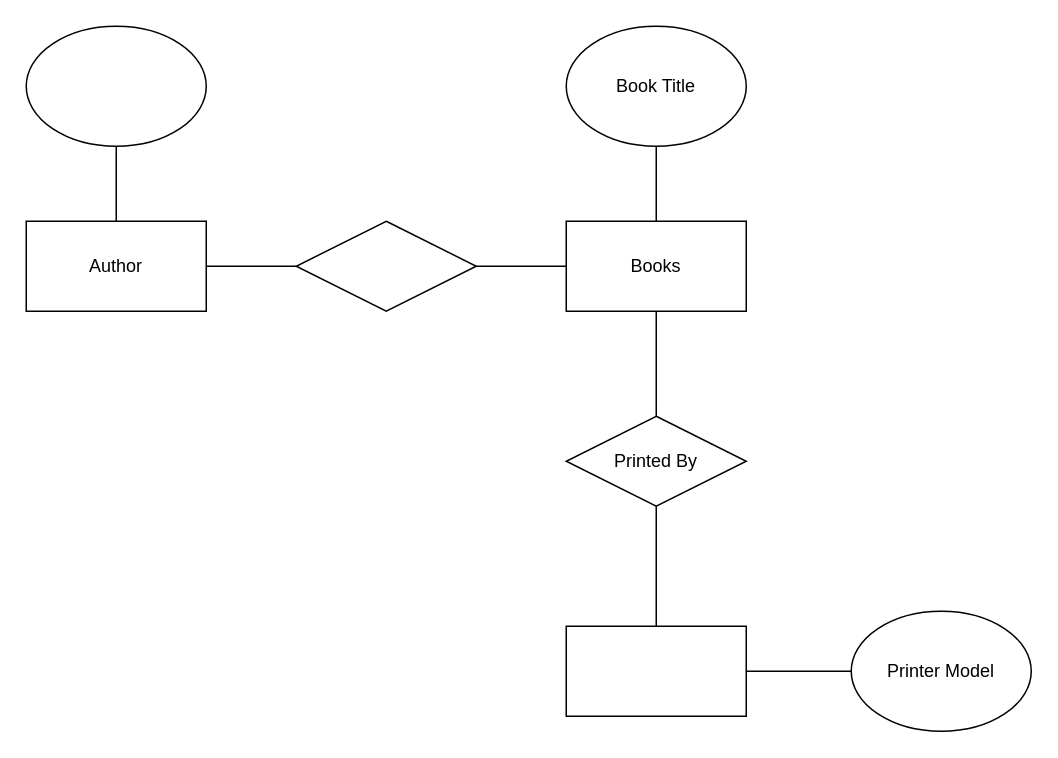
The diagram is 1058 pixels wide and 758 high, and some of its shapes have lost their labels. Each missing label, with the box of its shape:
Author Name: (25, 25, 206, 146)
Printer: (565, 625, 746, 716)
Writes: (295, 220, 476, 311)
